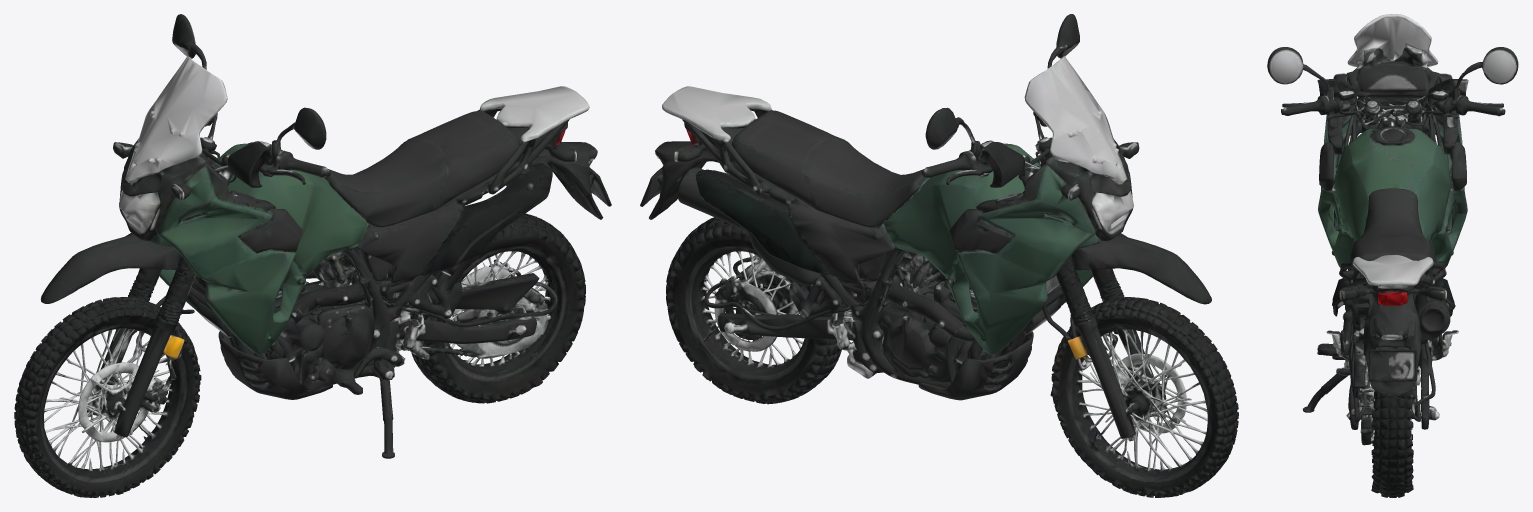
File: serra-400.glb
3 views of the same model, side by side, from view 1: azimuth 30°, elevation 25°; view 2: azimuth 150°, elevation 25°; view 3: azimuth 270°, elevation 25° (orthographic). The views are drawn at different scales.
Bounding box in the file's own units: 1.9 × 1.28 × 0.8317.
1 material, 1 textured.
